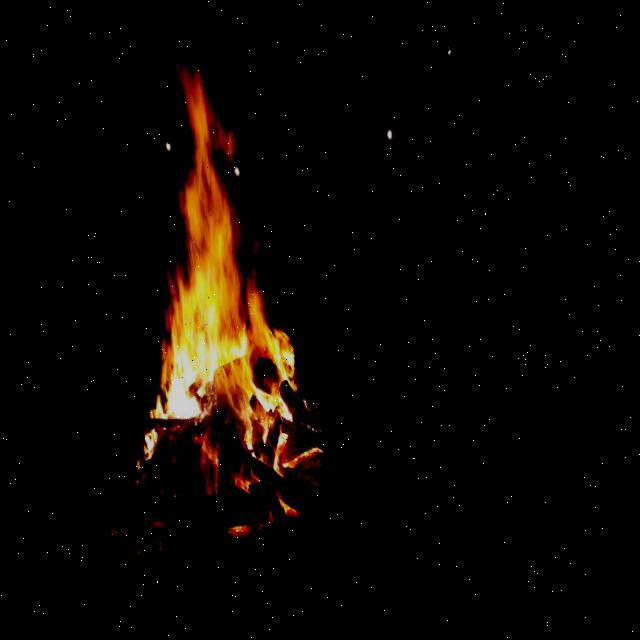Fire: (86, 50, 316, 503), (263, 500, 288, 522), (212, 524, 238, 540)
